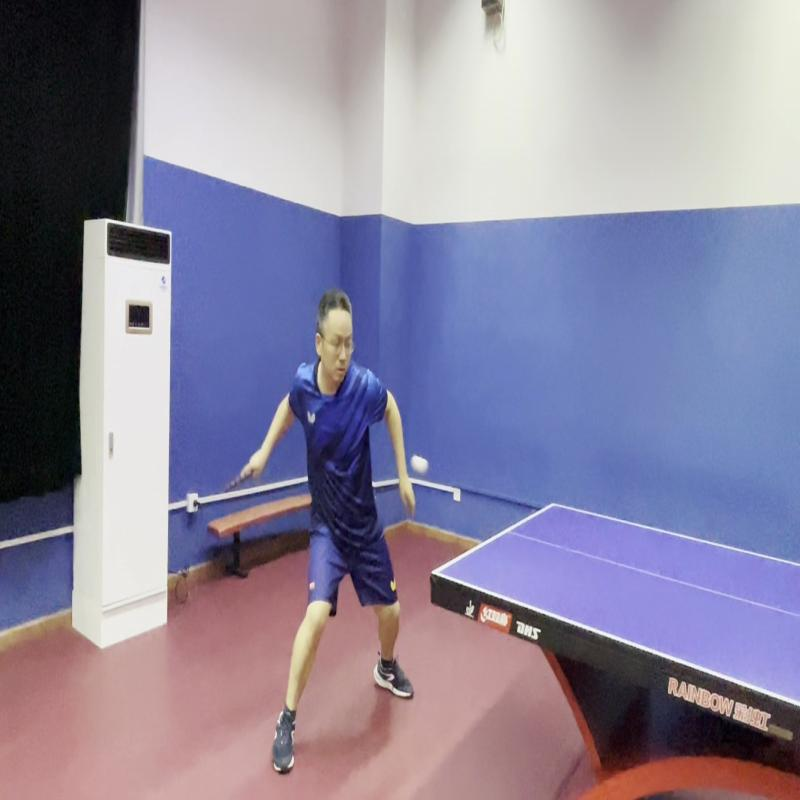bats: (217, 460, 258, 504)
